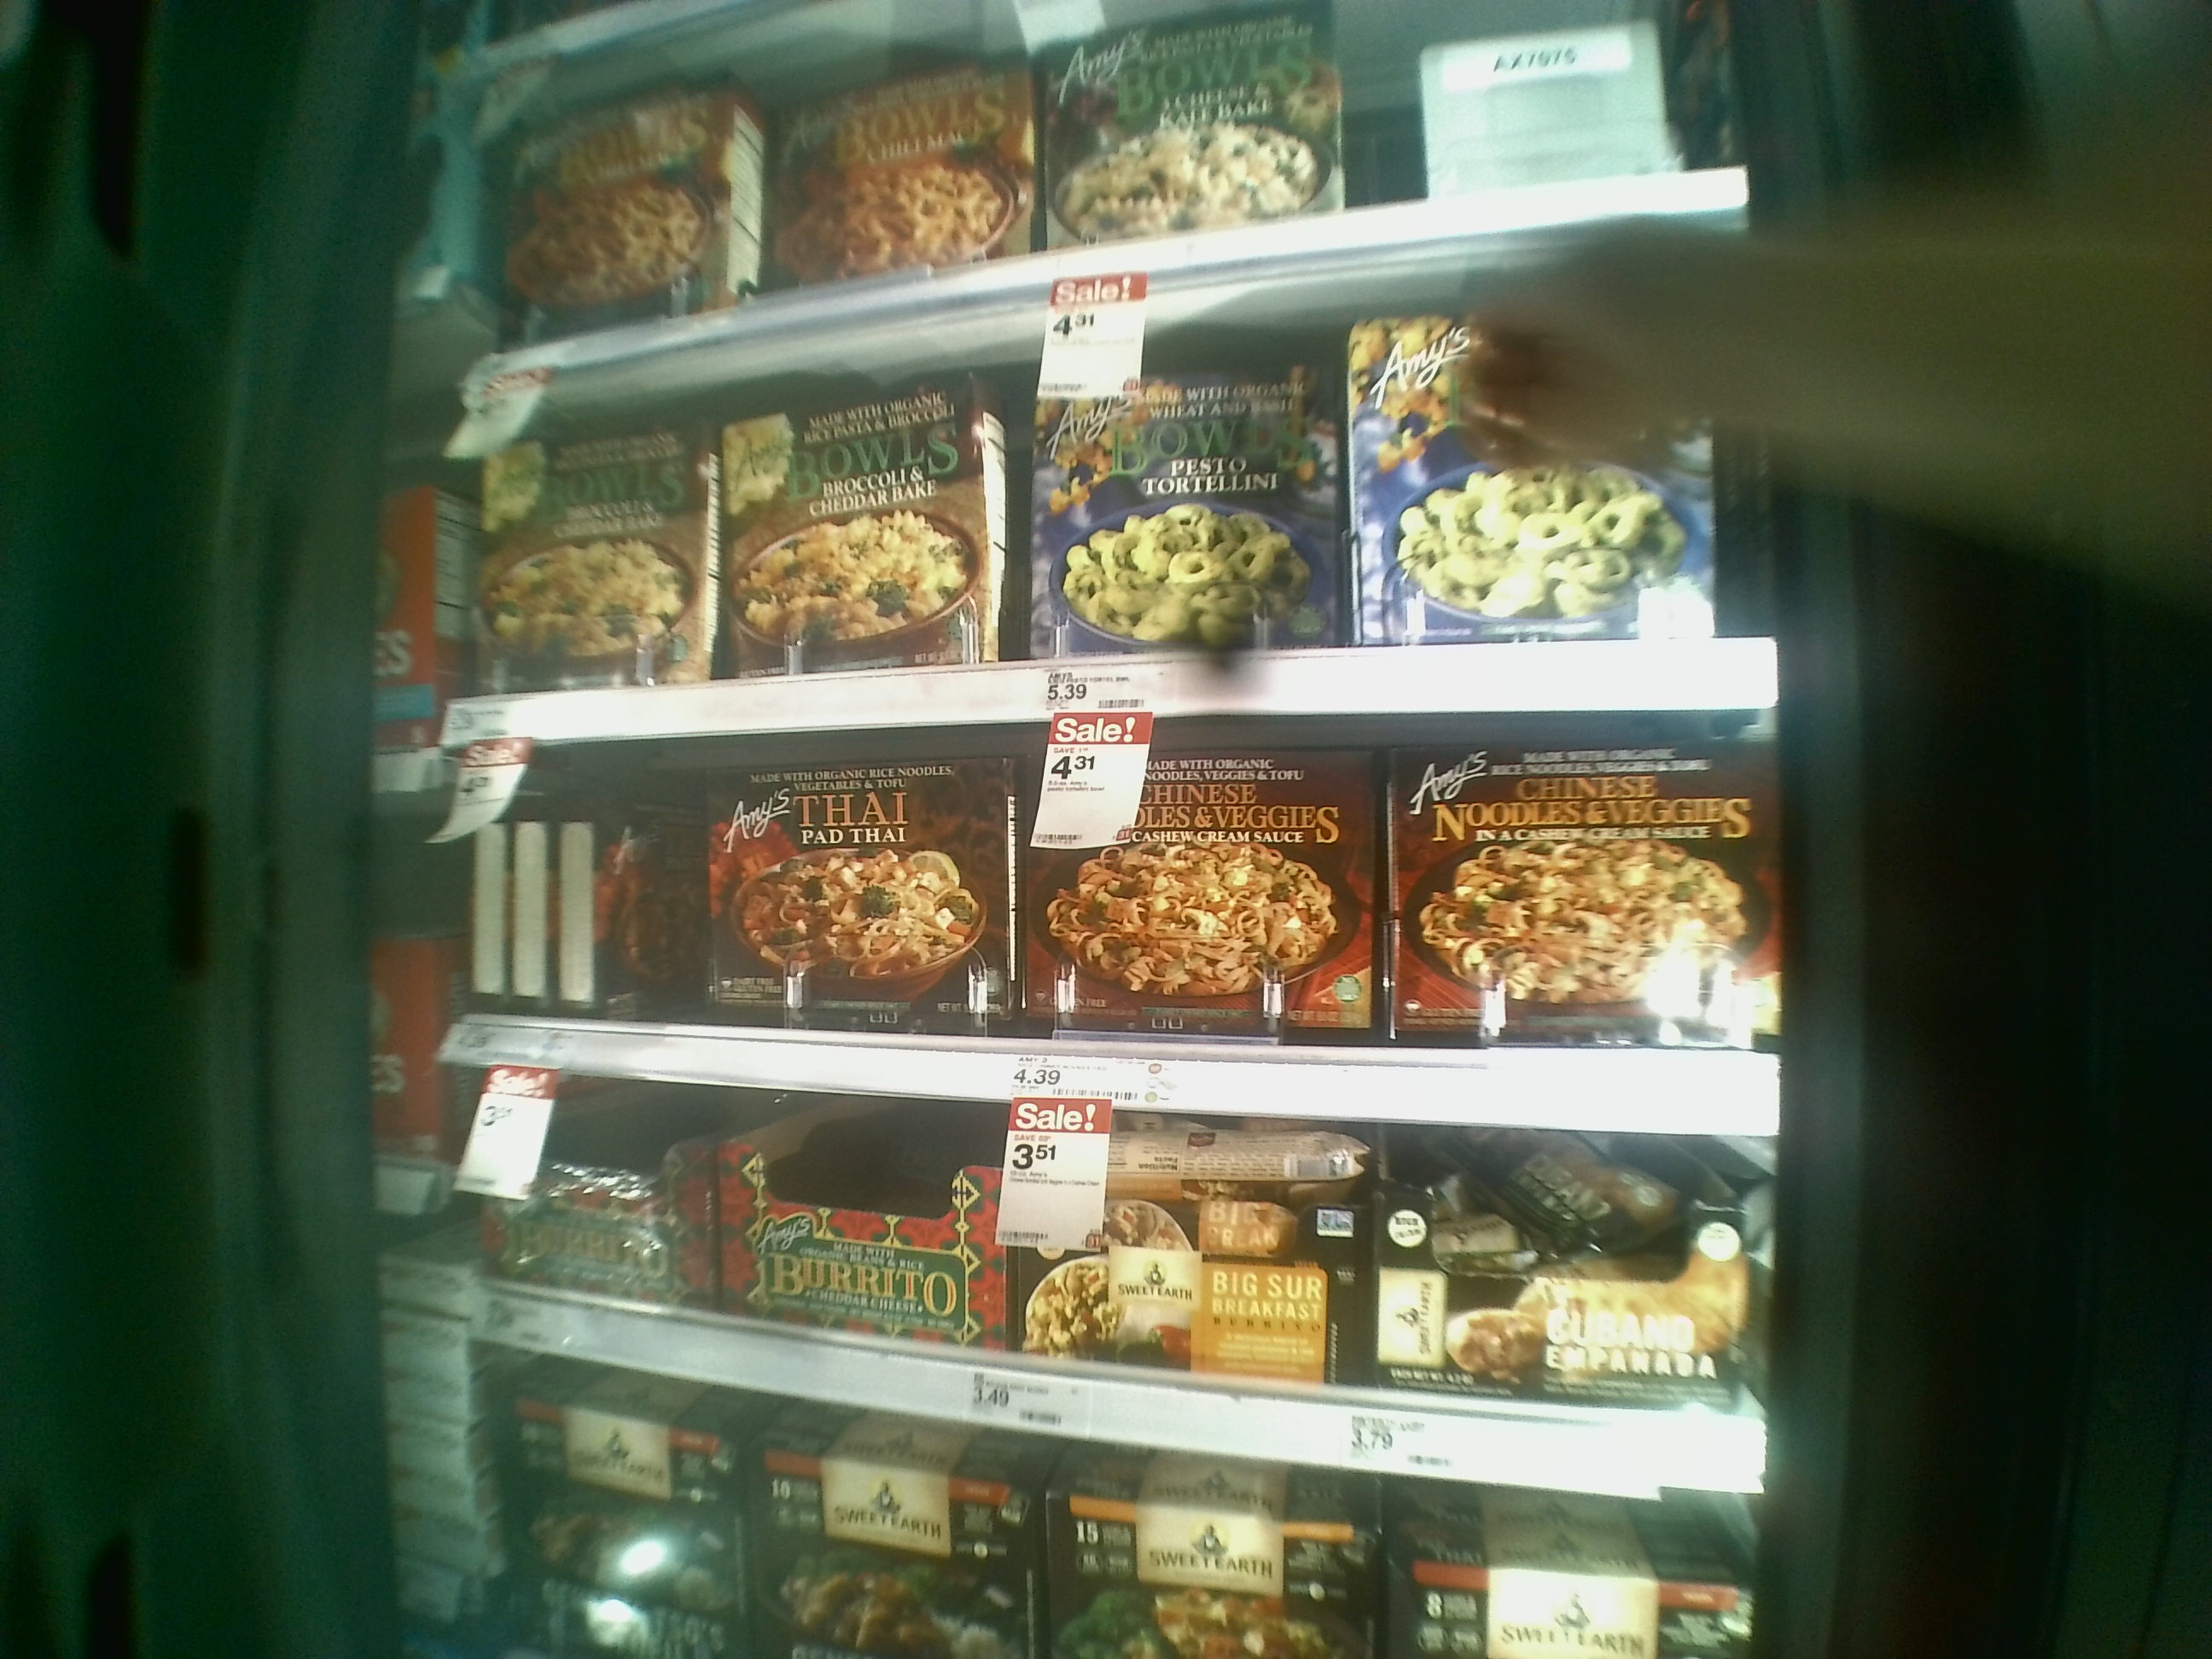frozen-food-shelf: (399, 748, 1799, 1143), (399, 1143, 1785, 1504), (404, 397, 1794, 746)
